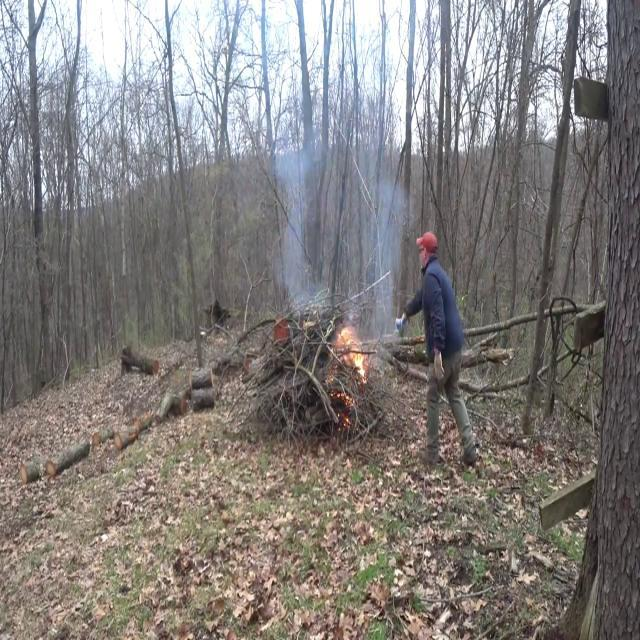Fire: (332, 321, 370, 383)
Smoke: (266, 88, 411, 338), (361, 151, 408, 360)
